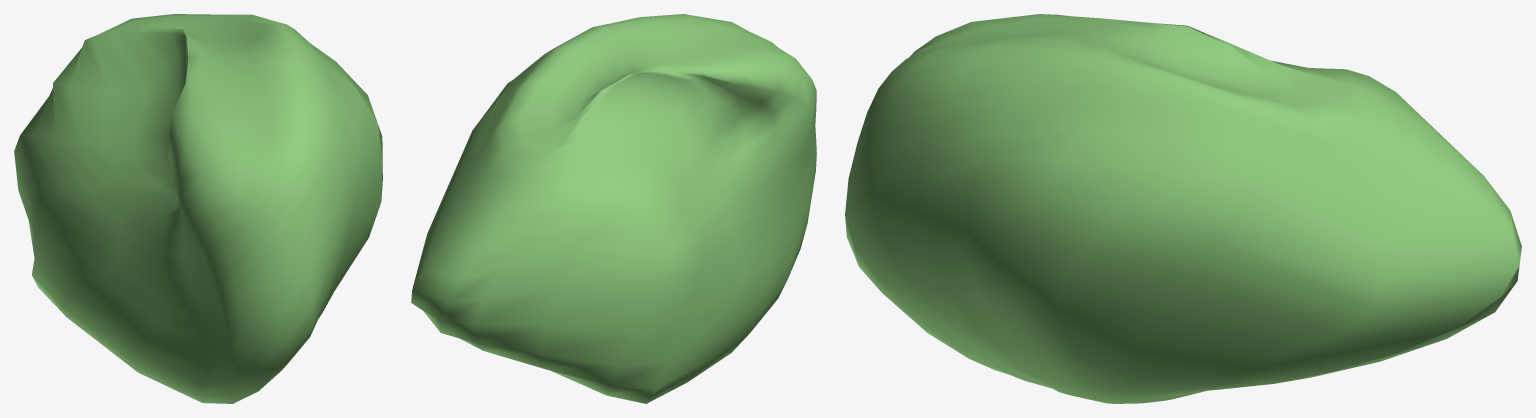
The model's file is Mesh_Blattwerk_3.fbx.
3 renders of one model, left to right at view 1: azimuth 30°, elevation 25°; view 2: azimuth 150°, elevation 25°; view 3: azimuth 270°, elevation 25°, orthographic. The views are drawn at different scales.
Parts seen in each view (by area): view 1: Blattwerk2; view 2: Blattwerk2; view 3: Blattwerk2.
Part boxes in pixels (x1,y1,x2,y2): Blattwerk2: (14,14,382,403); Blattwerk2: (411,14,816,403); Blattwerk2: (845,14,1521,403).
Bounding box in the file's own units: 21.66 × 25.06 × 39.39.
